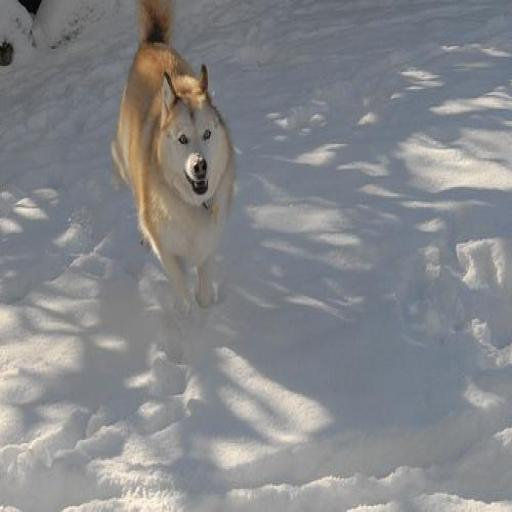dog_face: (162, 76, 223, 198)
